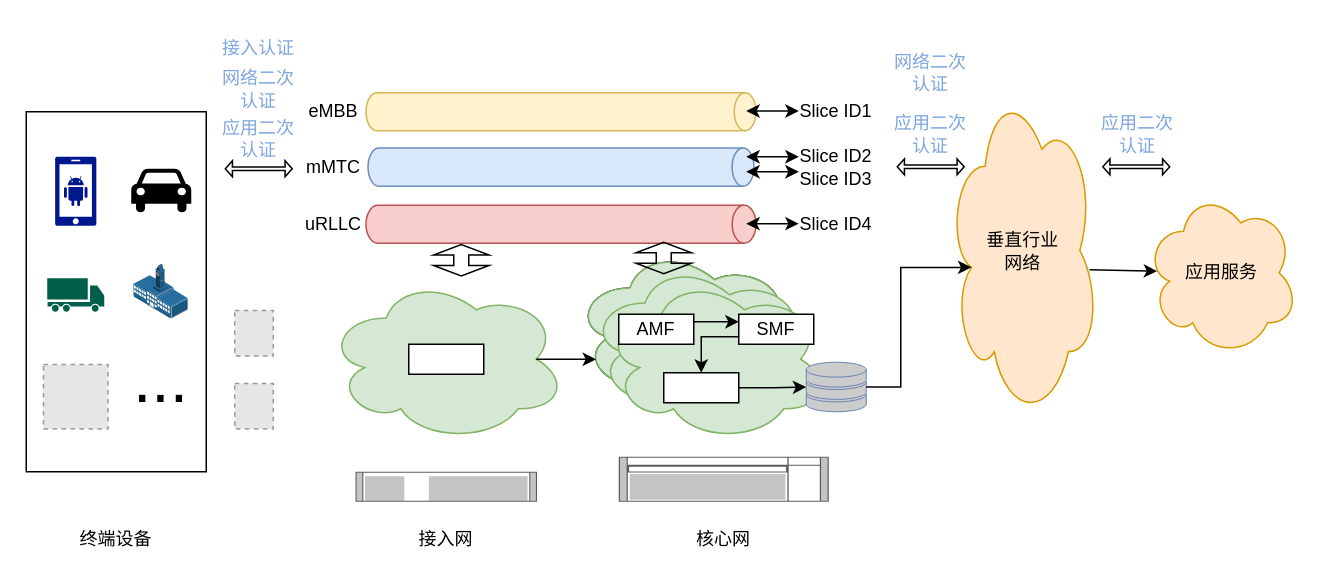
This 1325x587 diagram has some shape labels left out. Grey dashed boxes stand in for pictures. The shapes that lost their labels are listed below. From the top down, each one's centre as x and y in pixels, then its label:
At point 445,358: "gNB".
At point 700,387: "UPF".
